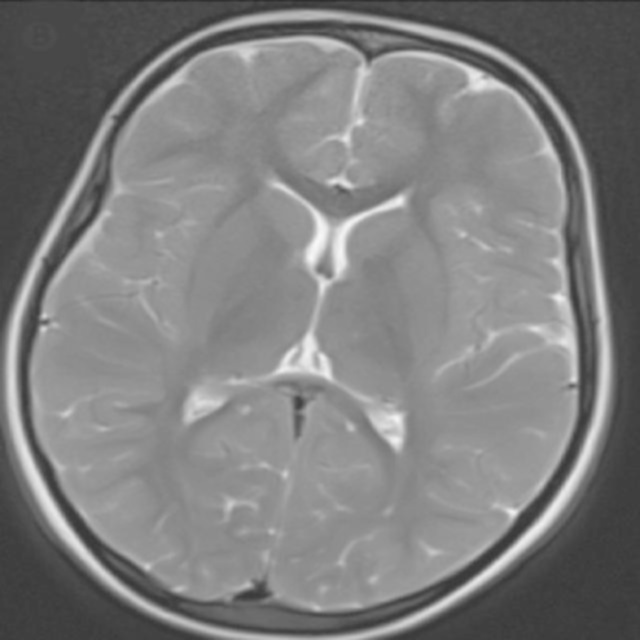glioma tumor: (138, 71, 488, 559)
